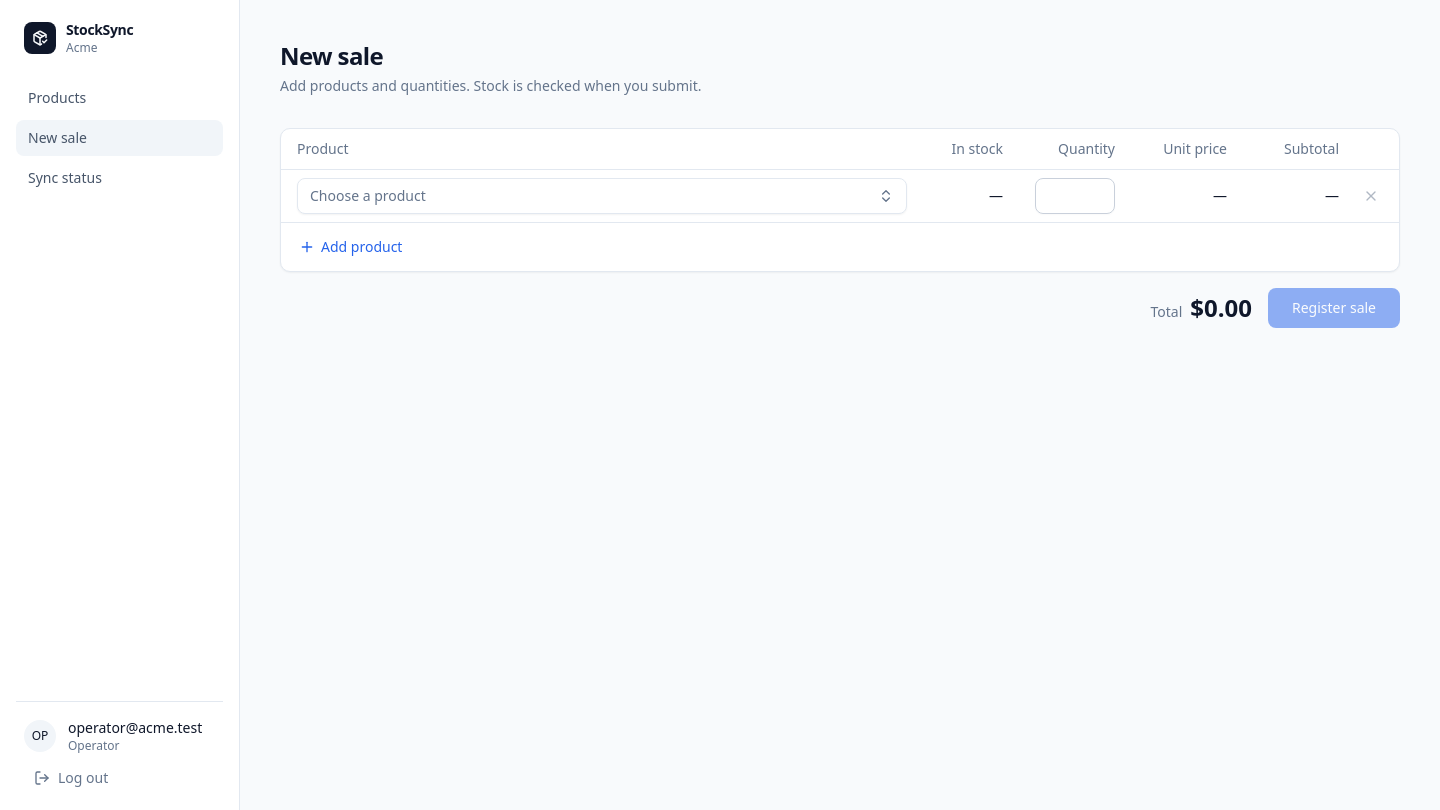
Scenario: new sale stock check › blocks a quantity above the displayed stock
This screenshot has width=1440, height=810.
Check: the heading "New sale" is shown, box [280,39,383,72]
Click the dropdown labelled "Choose a product" at (368, 195), box [297,178,907,214]
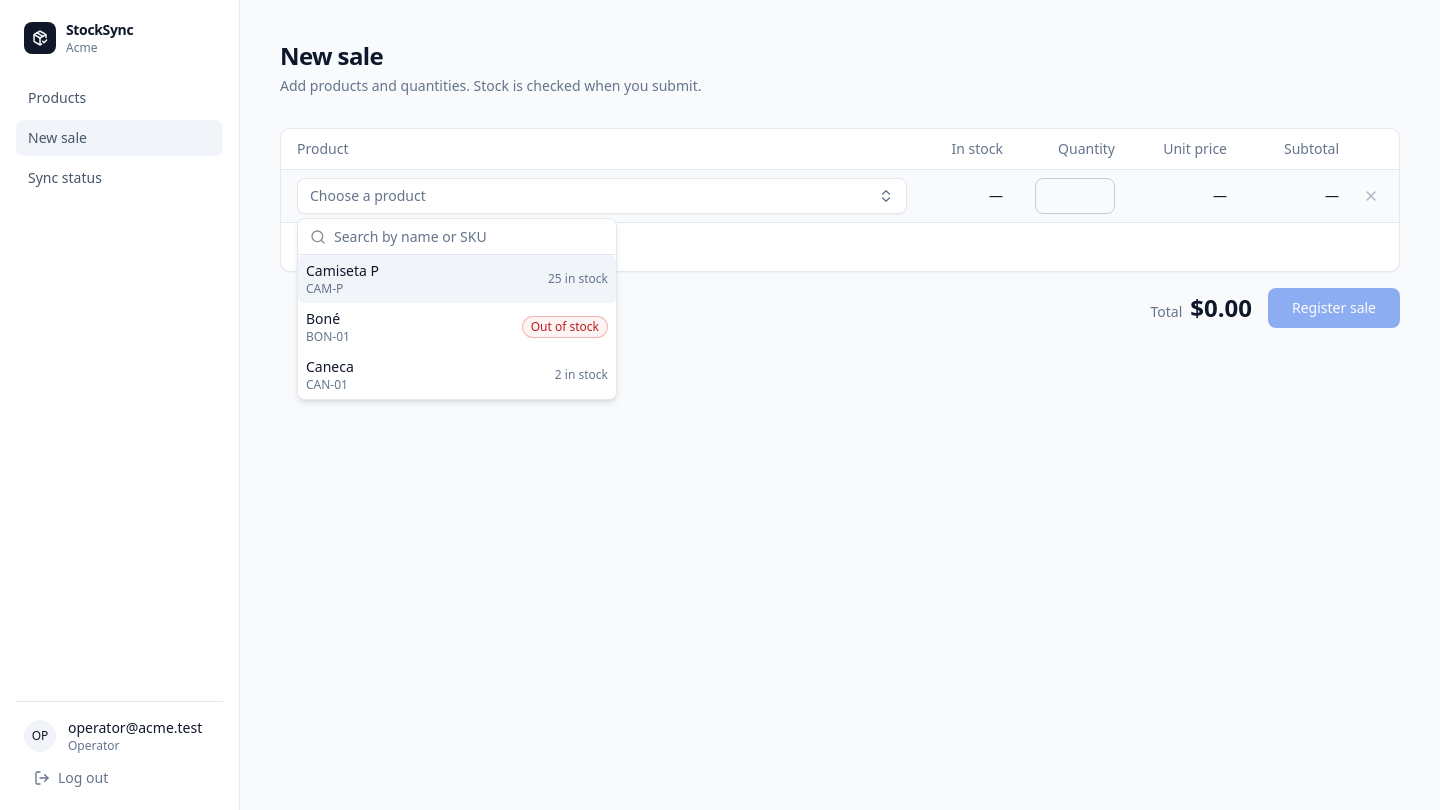
Type "Can" into the dropdown named "Search products" at (469, 236), box [334,216,604,256]
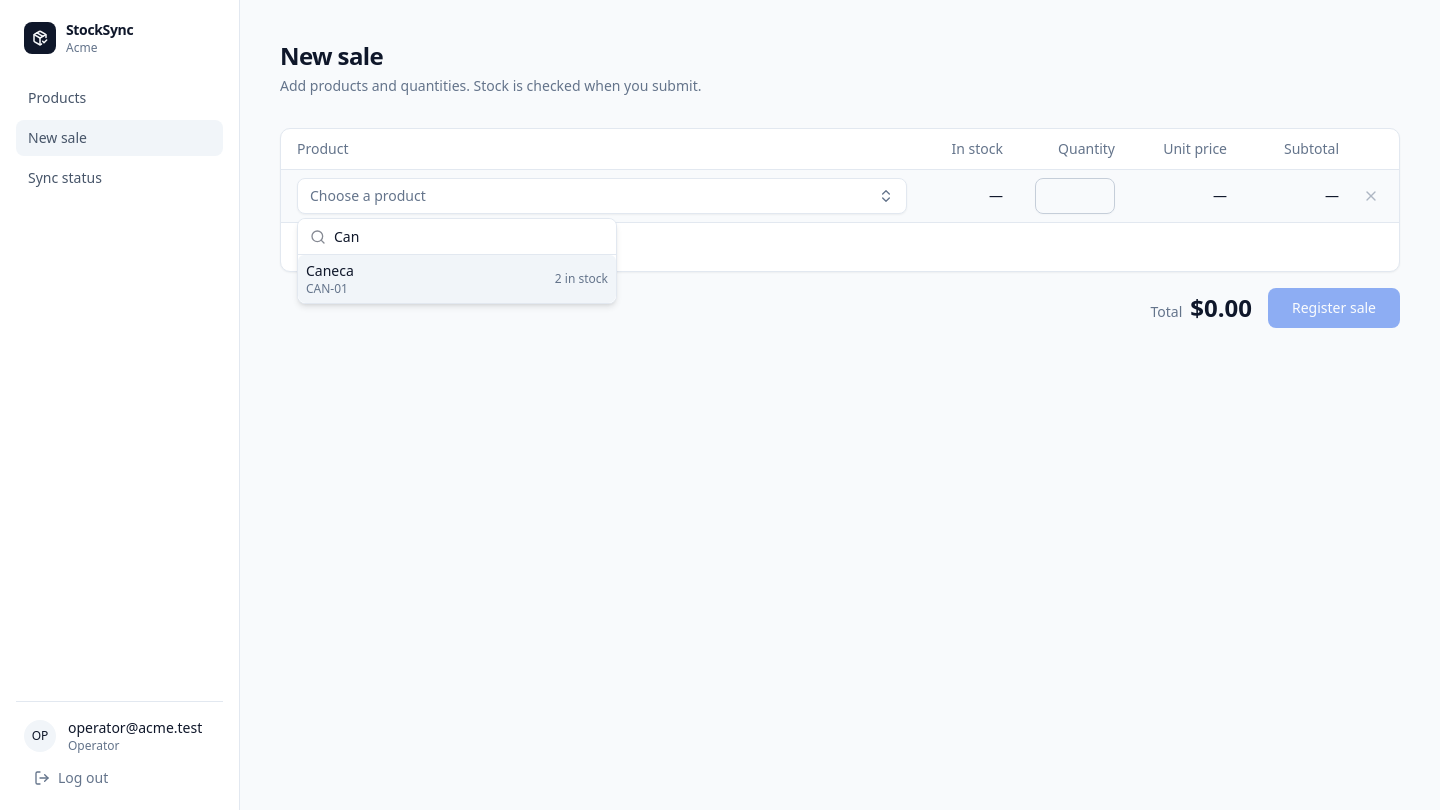
Click the option "Caneca CAN-01 2 in stock" at (330, 270), box [298,255,616,303]
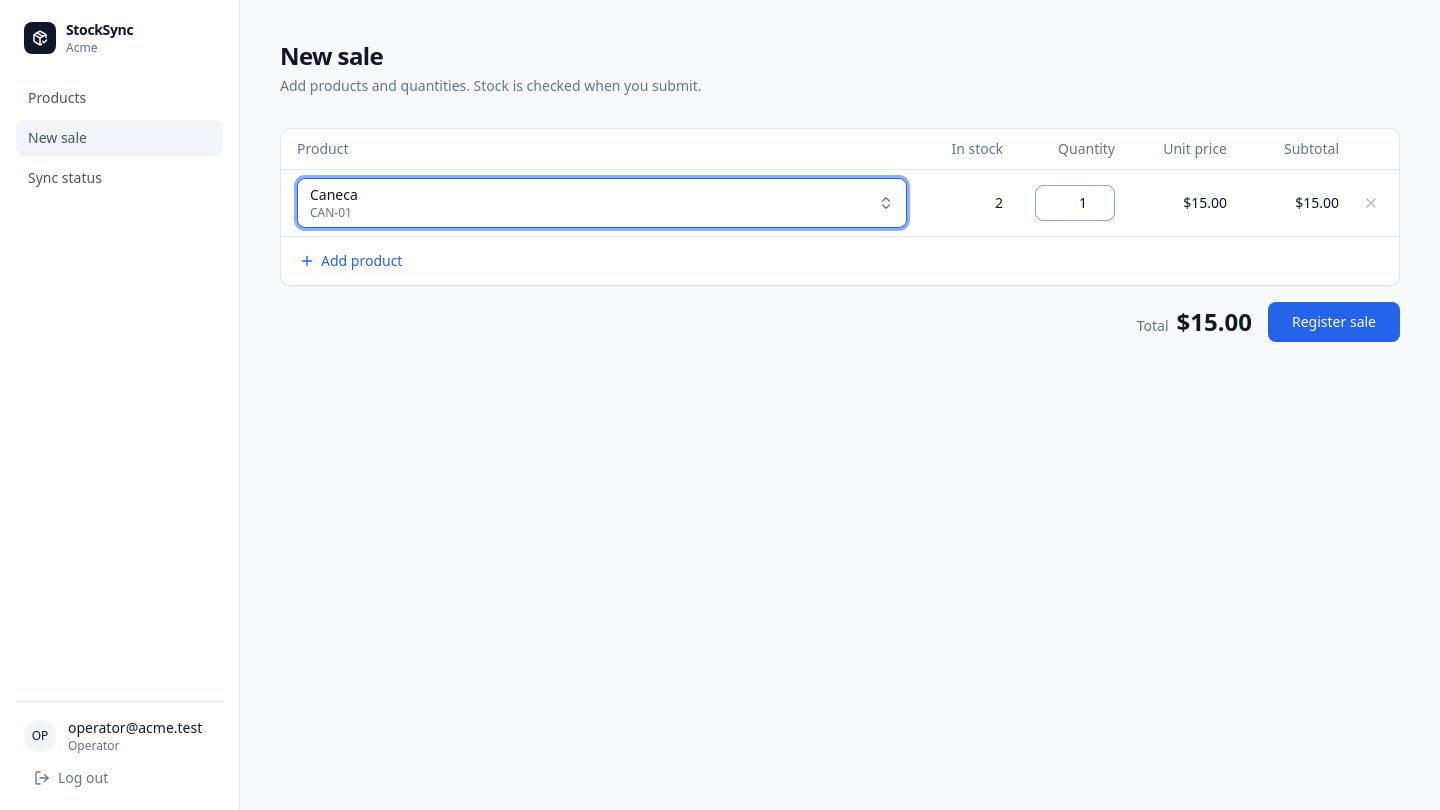
Replace the text in the number field named "Quantity, line 1" with "3" at (1075, 202), box [1035,184,1115,220]
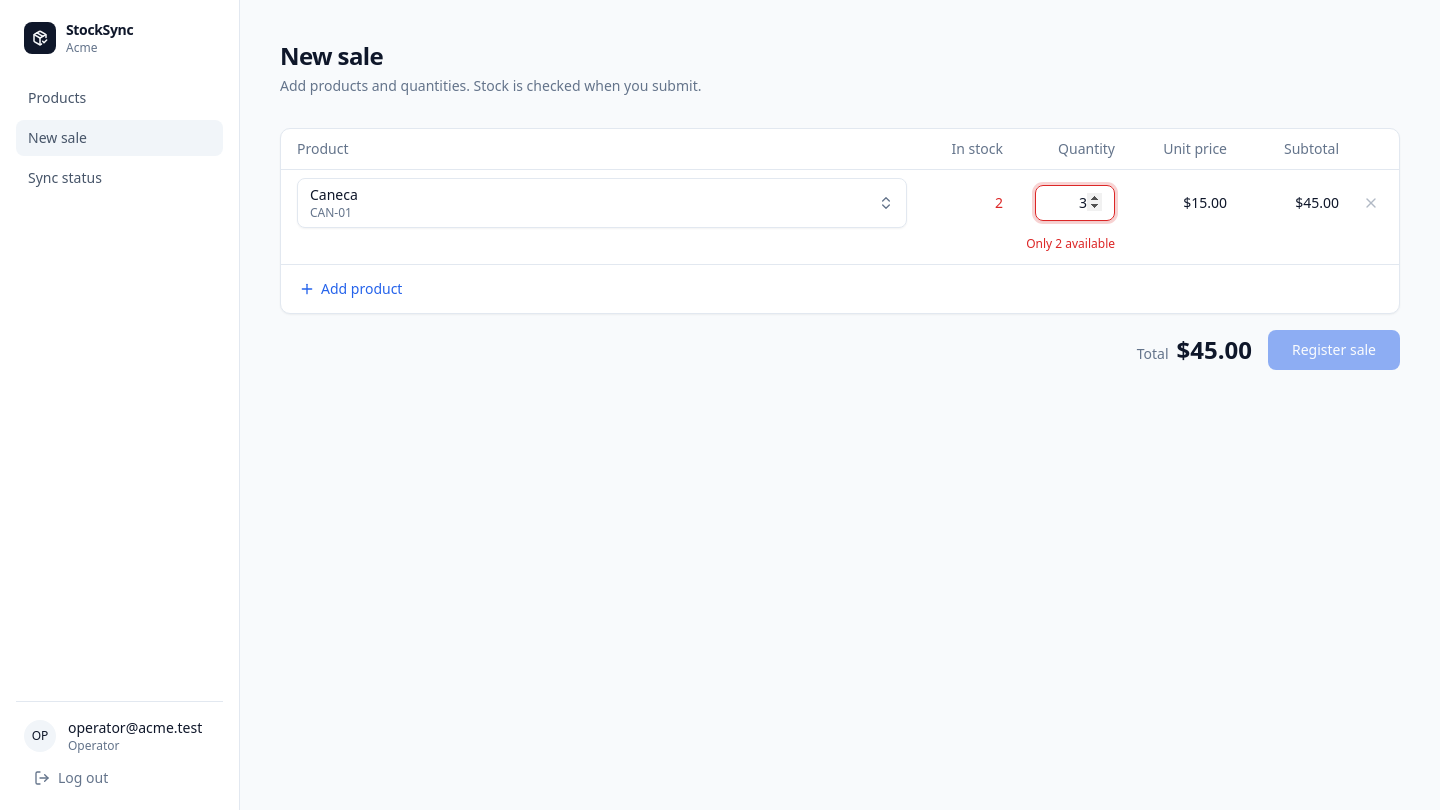
Check: the button "Register sale" is disabled, box [1268,330,1400,370]
Replace the text in the number field named "Quantity, line 1" with "2" at (1075, 202), box [1035,184,1115,220]
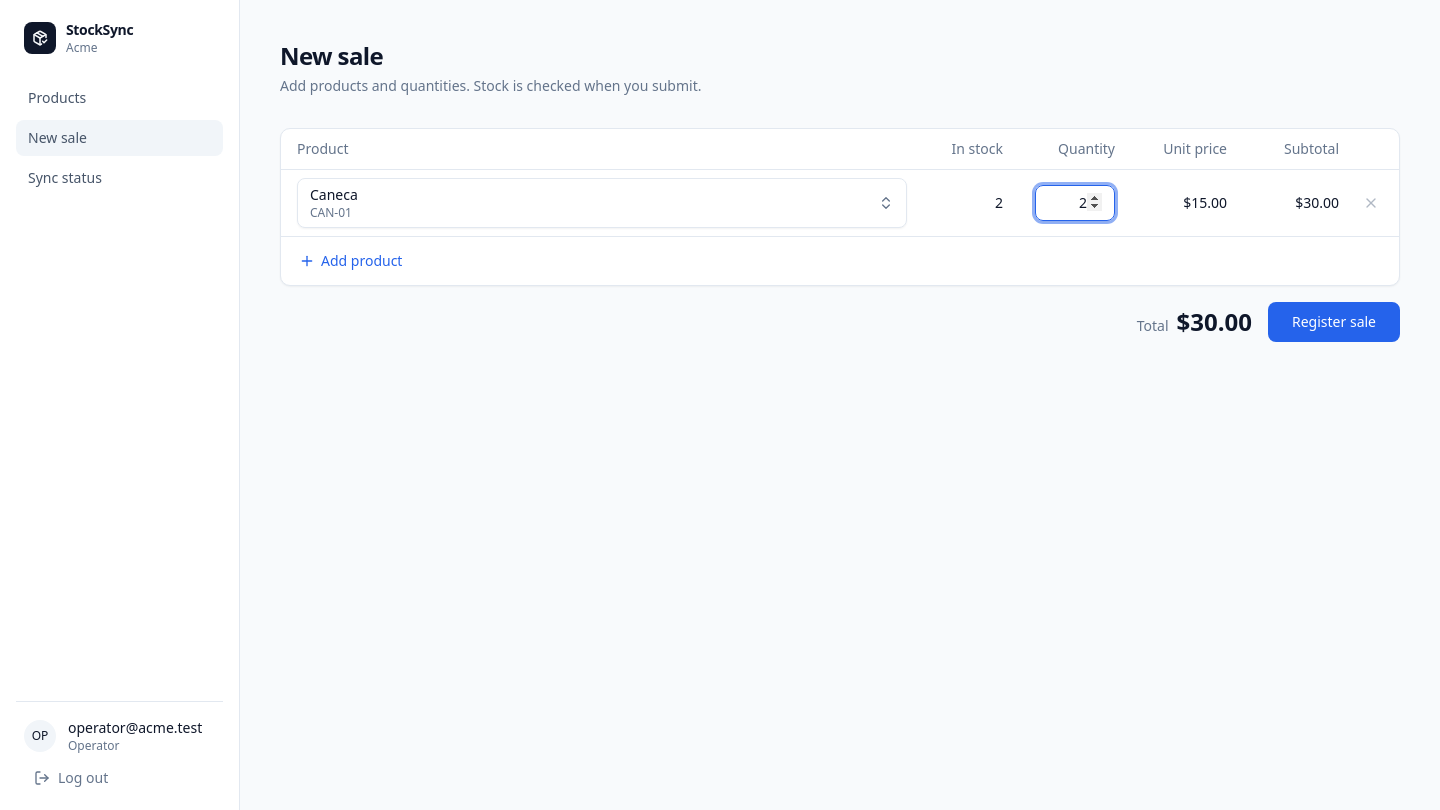
Check: the text "Only 2 available" is not shown
Check: the button "Register sale" is enabled, box [1268,302,1400,342]
